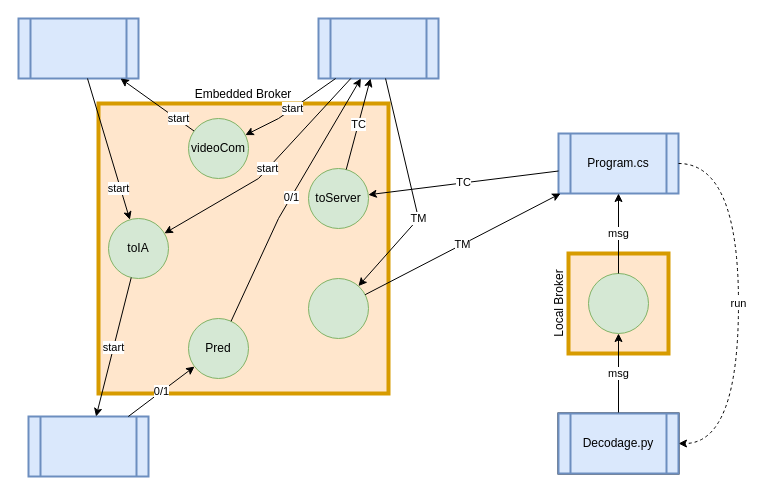
This 763x494 diagram has some shape labels left out. The centre of each missing label's shape, as x and y in pixels:
"IA.cpp" belongs at [88,446].
"read_video.py" belongs at [78,48].
"server.cpp" belongs at [378,48].
"toClient" belongs at [338,308].
"toCS" belongs at [618,303].
